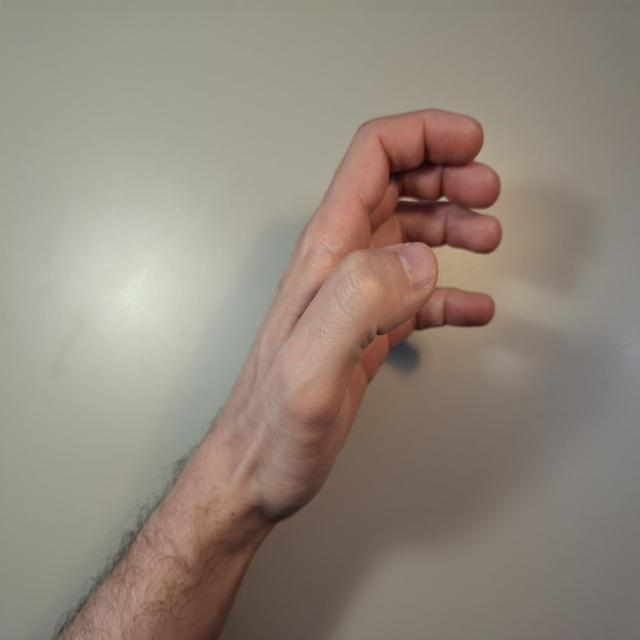glove_off: (237, 105, 505, 528)
